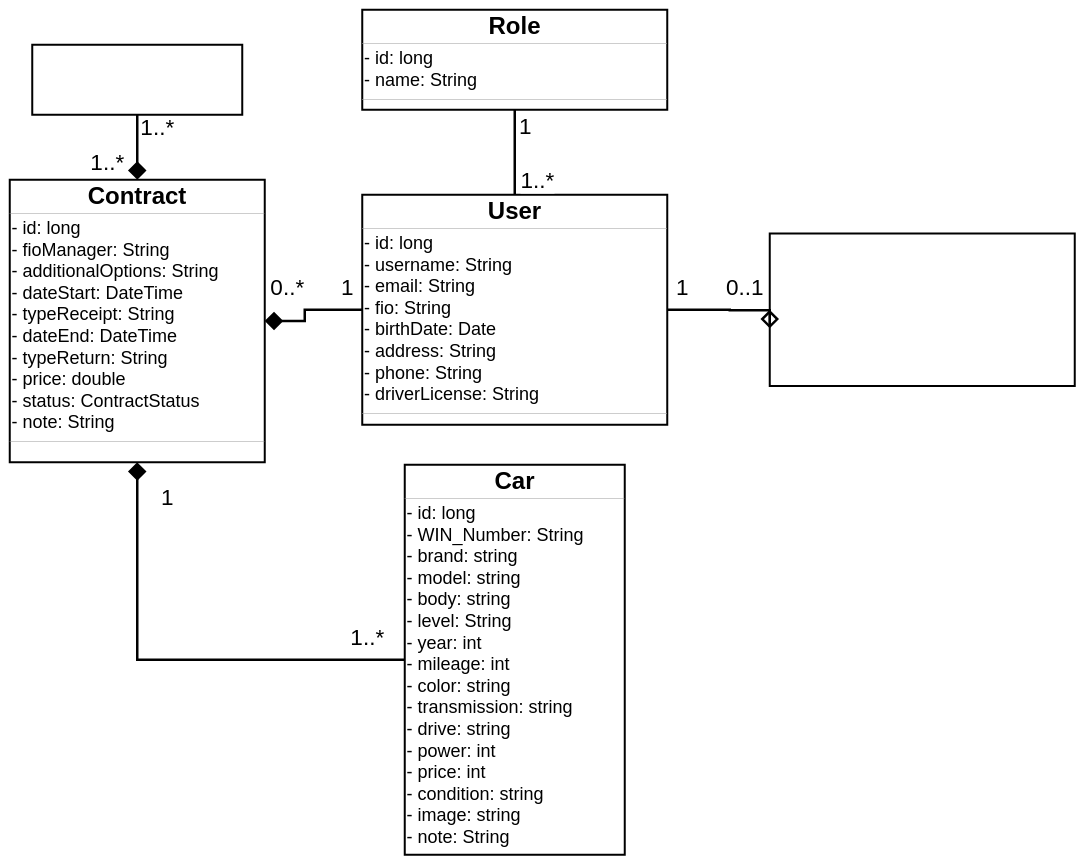
Some shapes in this 1084 by 864 pixel diagram are drawn without their labels. Each missing label, with the centre of its shape:
ContractStatus - title: String: the point at 137,80
Feedback - id: long - score: int - body: String - date: Date - author: String: the point at 922,309
